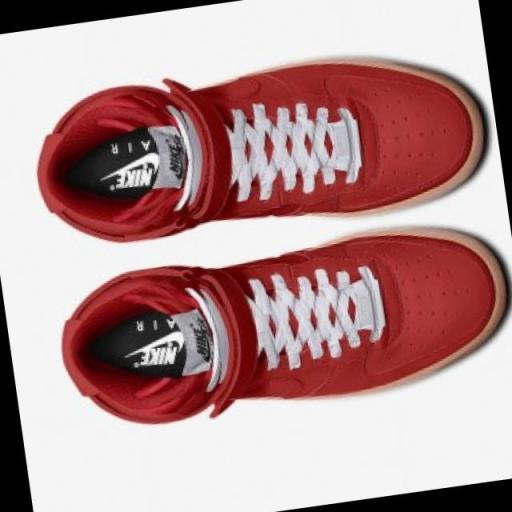Nike: (106, 152, 160, 176), (138, 346, 179, 368)
